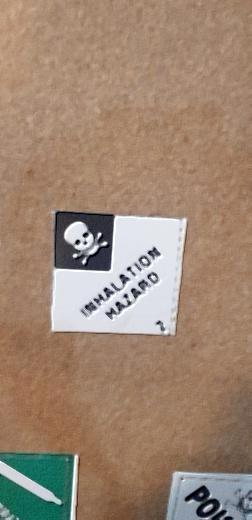poison: (50, 211, 188, 336)
